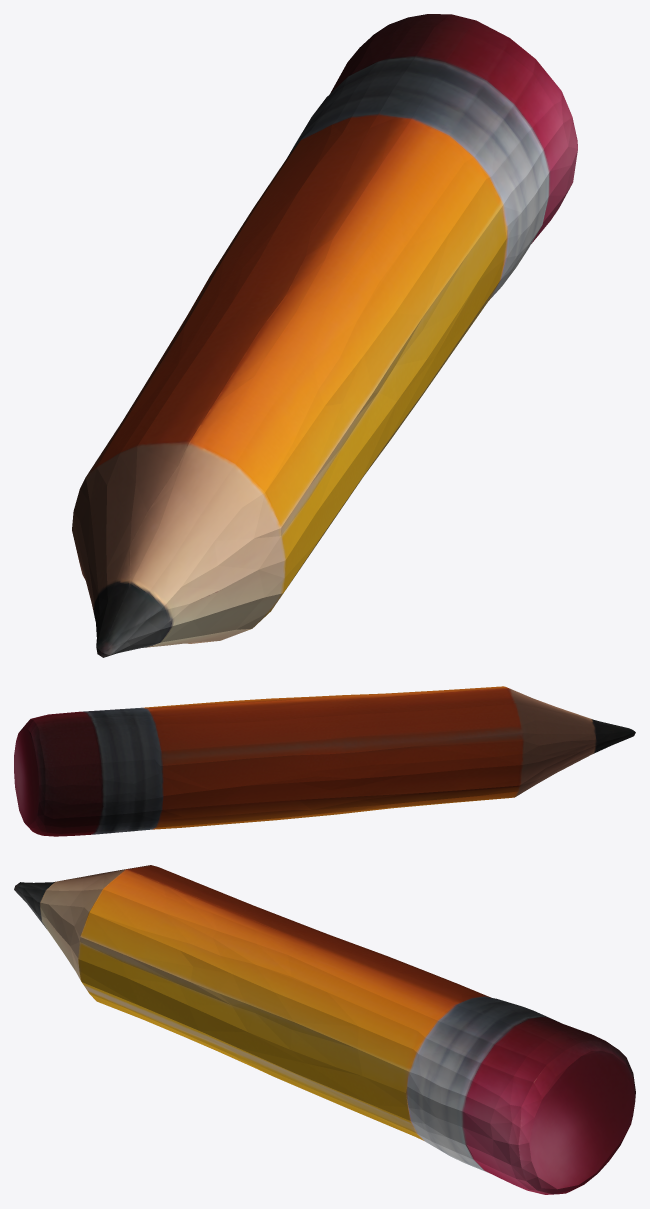
The model's file is pencil.glb.
3 views of the same model, one above another, from view 1: azimuth 30°, elevation 25°; view 2: azimuth 150°, elevation 25°; view 3: azimuth 270°, elevation 25° (orthographic). The views are drawn at different scales.
Visible parts, largest first — view 1: world; view 2: world; view 3: world.
Boxes of the visible parts, bbox=[...] form: world: bbox=[72, 14, 577, 657]; world: bbox=[14, 686, 635, 836]; world: bbox=[14, 865, 635, 1194].
Bounding box in the file's own units: 0.7927 × 0.2103 × 0.7528.
Materials: 1 (1 with a texture image).
